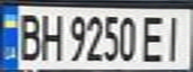0: (118, 12, 142, 63)
2: (84, 11, 106, 63)
5: (103, 11, 121, 63)
9: (63, 11, 87, 62)
B: (12, 9, 45, 62)
E: (139, 11, 169, 63)
H: (36, 10, 66, 62)
I: (160, 11, 190, 63)
